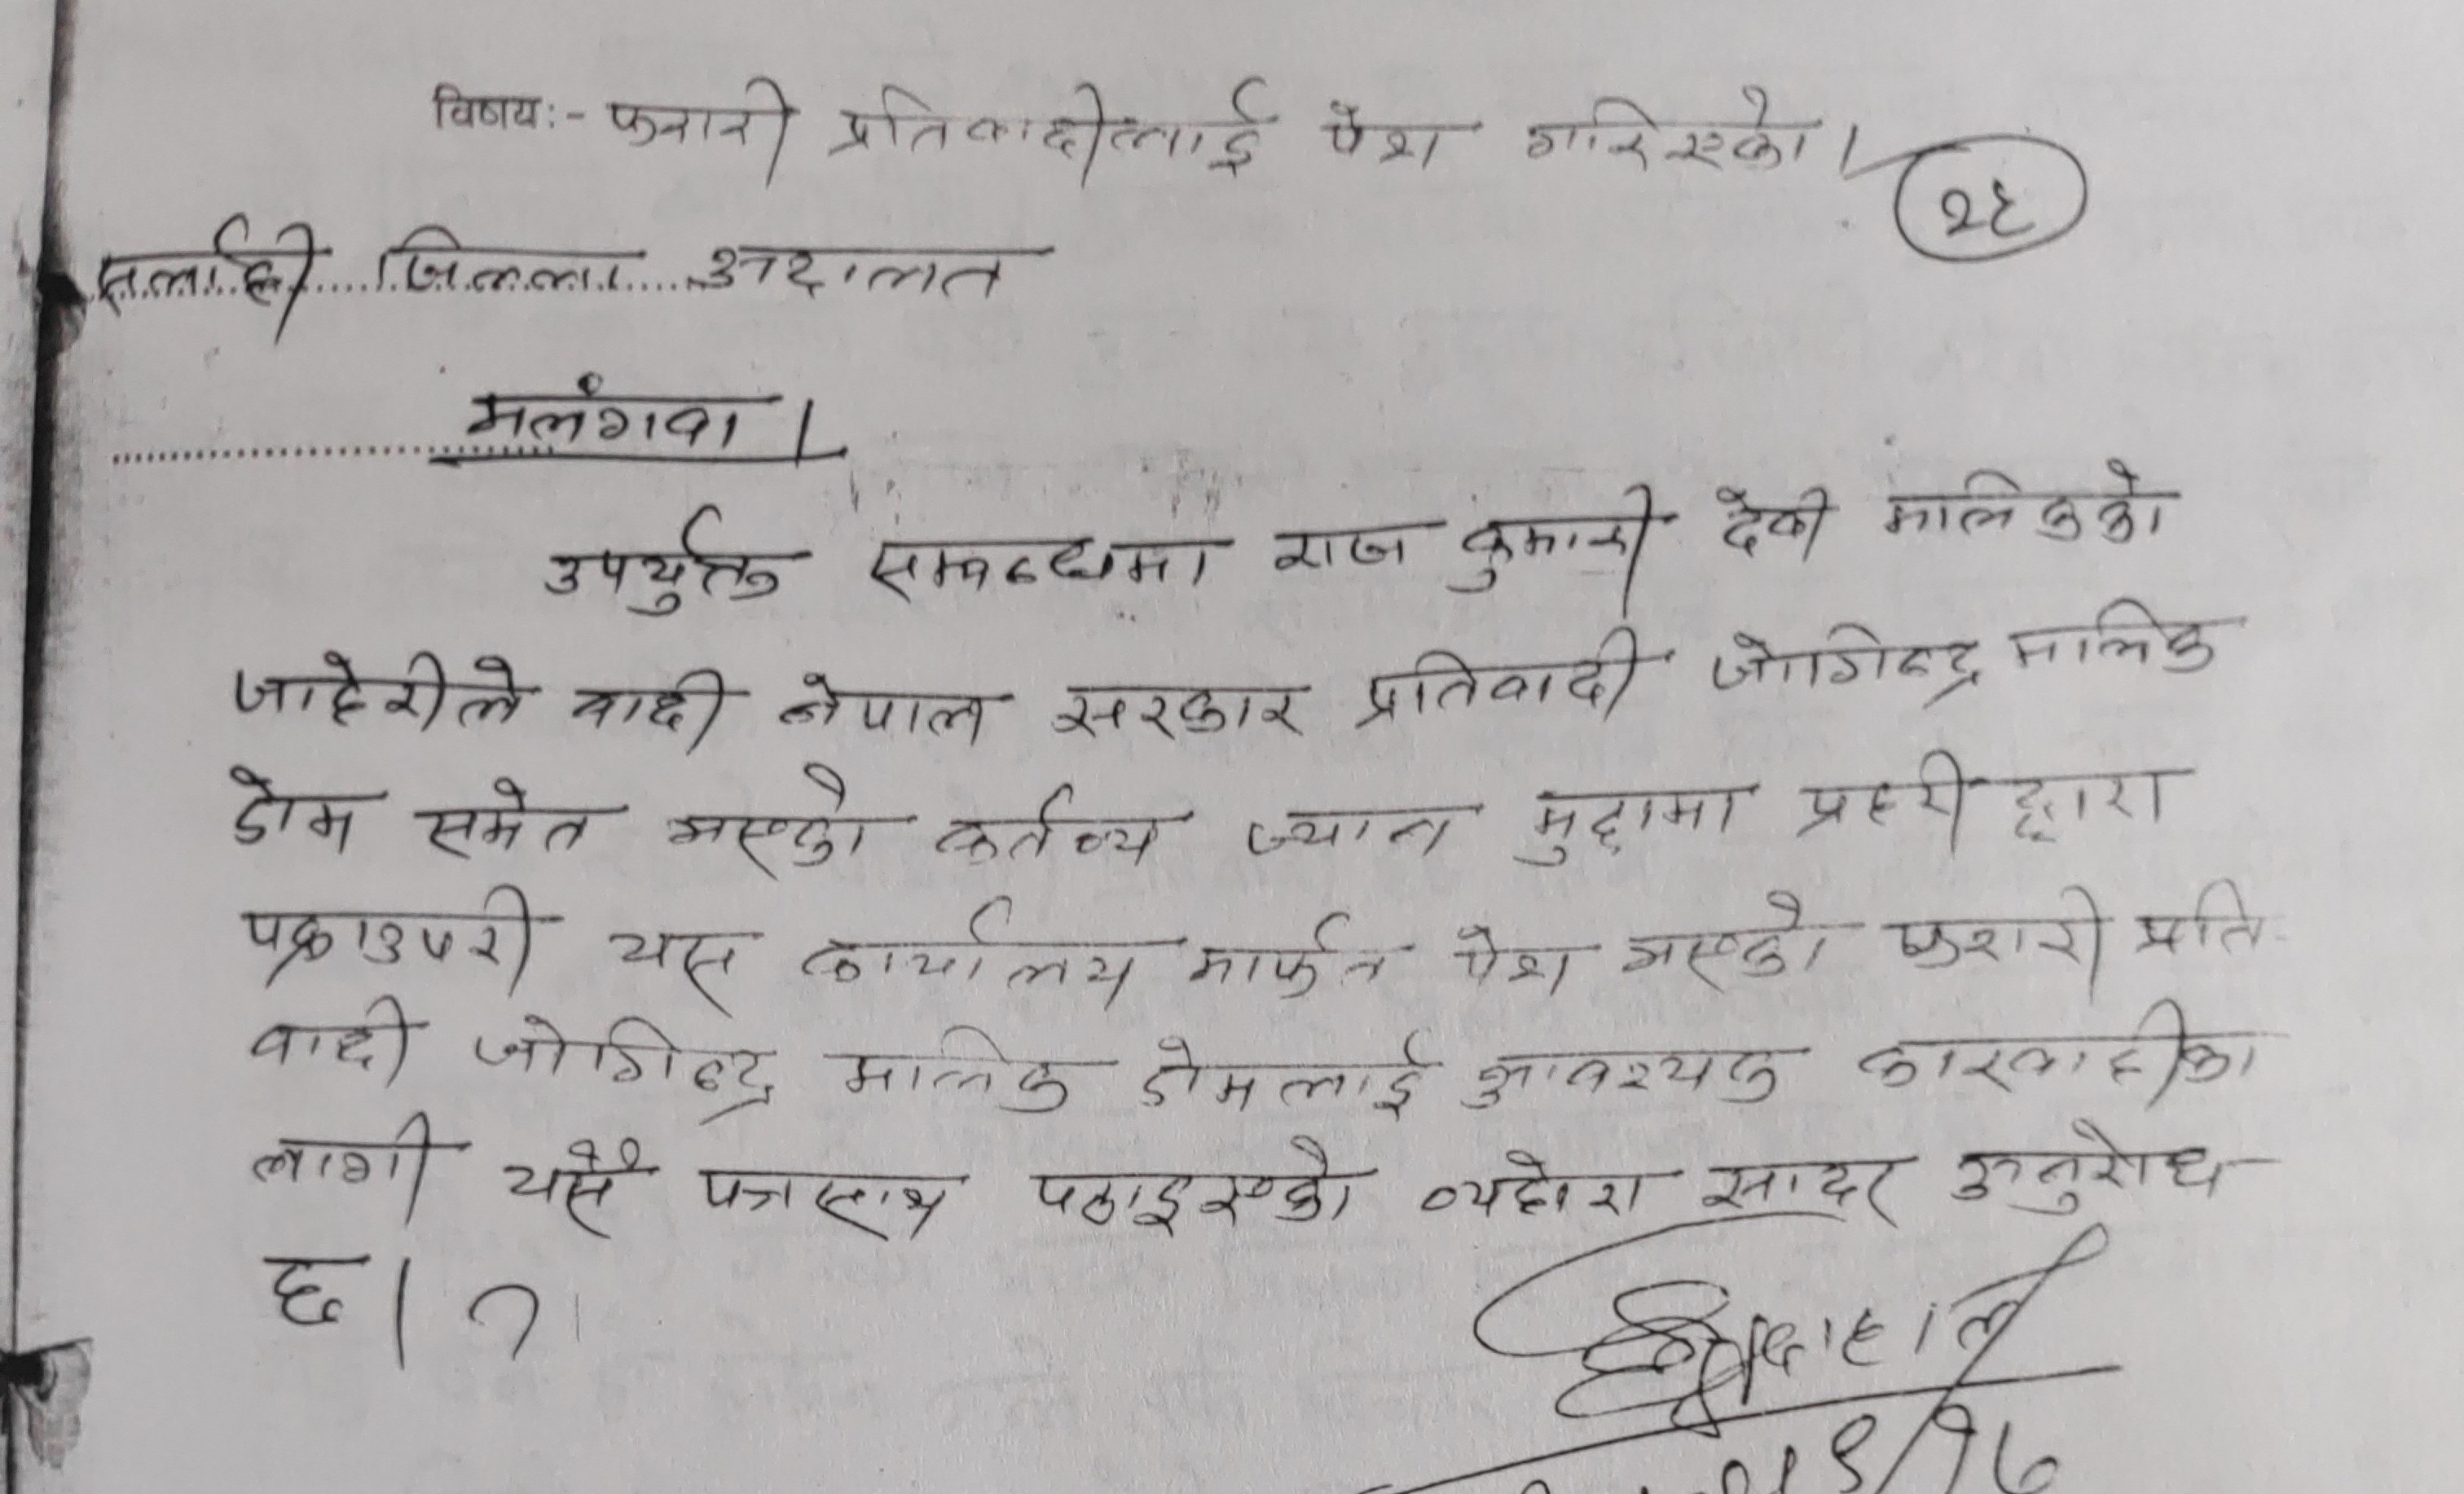text: (829, 69, 1288, 188), (1857, 992, 2269, 1102), (1792, 748, 2172, 857), (797, 892, 1137, 1012), (239, 880, 532, 1000), (1028, 1131, 1357, 1237), (1353, 619, 1642, 736), (473, 1014, 780, 1123), (88, 209, 324, 347), (1522, 77, 1830, 178), (1947, 1116, 2244, 1216), (540, 505, 796, 619), (1440, 477, 1658, 609), (859, 528, 1221, 605), (1133, 1031, 1427, 1121), (458, 366, 762, 452), (225, 644, 532, 729), (688, 234, 1030, 310), (1880, 452, 2149, 547), (664, 760, 871, 883), (604, 74, 801, 197), (1890, 887, 2112, 994), (1616, 885, 1822, 1000), (929, 776, 1160, 878), (1707, 616, 1985, 700), (834, 1022, 1077, 1116), (1463, 1045, 1783, 1116), (688, 1163, 954, 1248), (377, 220, 639, 304), (248, 1110, 435, 1227), (1521, 781, 1742, 873), (2006, 593, 2225, 681), (1188, 912, 1399, 1001), (1417, 1147, 1649, 1228), (1049, 677, 1315, 744), (773, 665, 993, 743), (563, 665, 732, 762), (502, 1137, 641, 1246), (419, 778, 602, 861), (241, 996, 415, 1080), (1241, 802, 1477, 862), (605, 919, 750, 1014), (227, 764, 366, 861), (1320, 90, 1477, 172), (2131, 873, 2270, 961), (1700, 1161, 1906, 1216), (1267, 514, 1427, 582), (1718, 479, 1836, 565), (1445, 922, 1577, 996), (260, 1248, 356, 1330)
